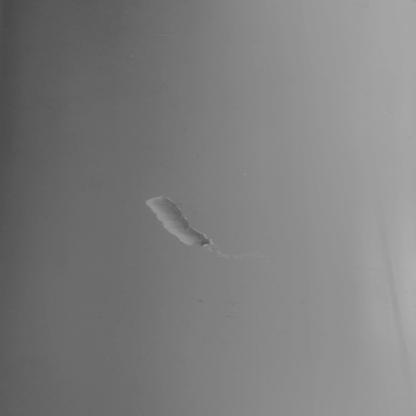sunshang: (146, 195, 216, 250)
